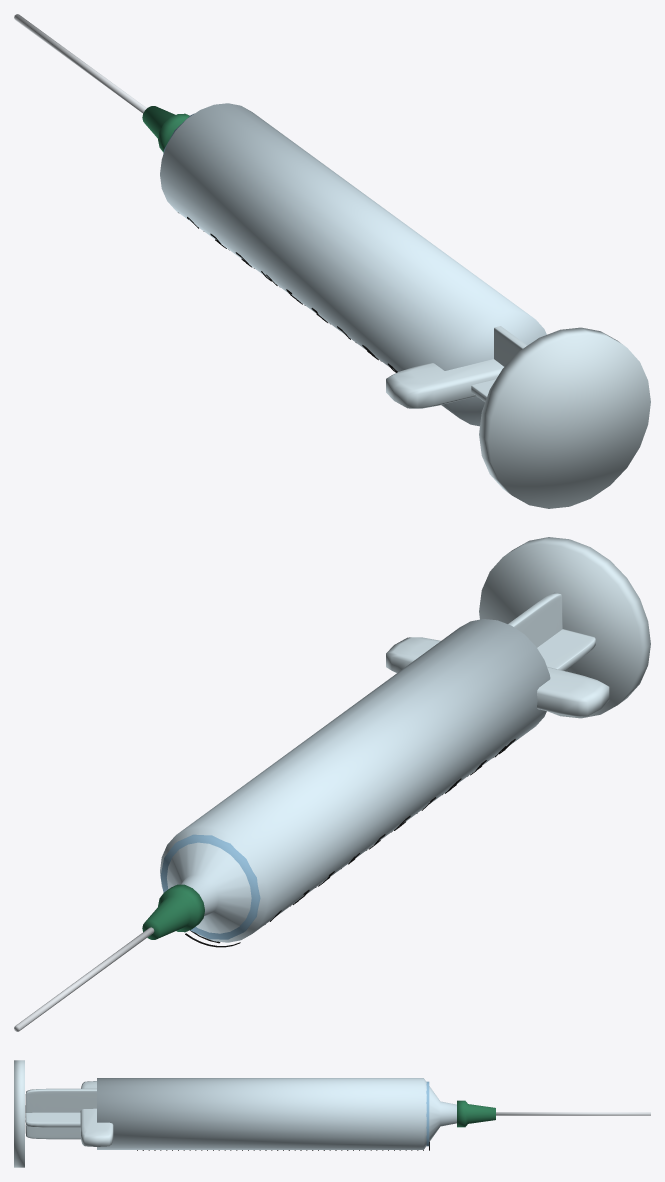
Rendered from syringe_10.glb.
3 views of the same model, one above another, from view 1: azimuth 30°, elevation 25°; view 2: azimuth 150°, elevation 25°; view 3: azimuth 270°, elevation 25° (orthographic). The views are drawn at different scales.
Parts seen in each view (by area): view 1: Barrel, Rod, Flange, Needle, Hub; view 2: Barrel, Rod, Flange, Hub, Level, Needle; view 3: Barrel, Rod, Flange, Hub, Needle, Level.
Boxes of the visible parts, <box> form: Barrel: <box>160,103,546,426</box>; Rod: <box>471,326,650,508</box>; Flange: <box>386,359,503,408</box>; Needle: <box>14,14,146,113</box>; Hub: <box>142,106,189,152</box>; Barrel: <box>160,619,550,942</box>; Rod: <box>479,537,650,718</box>; Flange: <box>386,637,609,716</box>; Hub: <box>142,884,204,939</box>; Level: <box>160,834,260,939</box>; Needle: <box>14,927,154,1031</box>; Barrel: <box>97,1078,456,1149</box>; Rod: <box>14,1060,96,1167</box>; Flange: <box>80,1081,113,1146</box>; Hub: <box>457,1100,495,1127</box>; Needle: <box>496,1112,650,1115</box>; Level: <box>426,1081,429,1146</box>.
Size of the model in its own units: 0.0248 by 0.0195 by 0.115.
